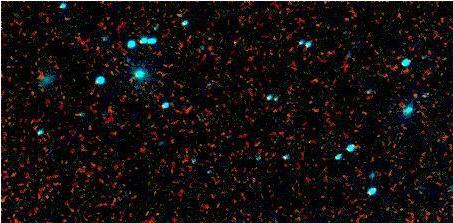star: (397, 84, 427, 114)
